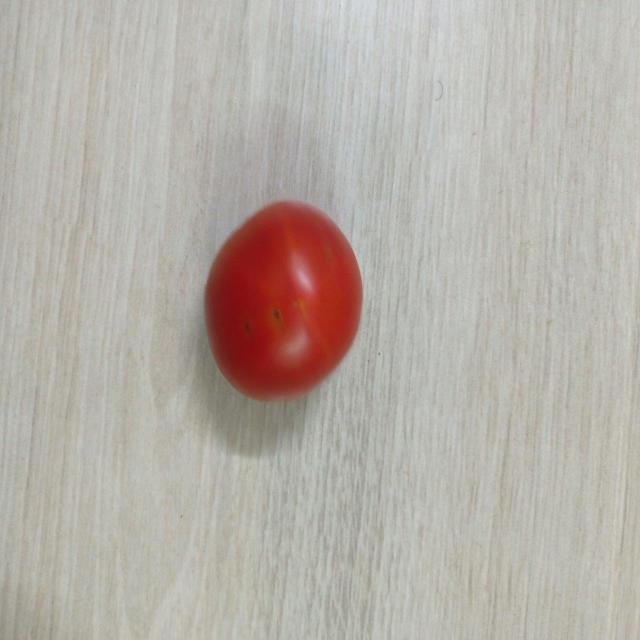Tomato: (202, 197, 368, 405)
